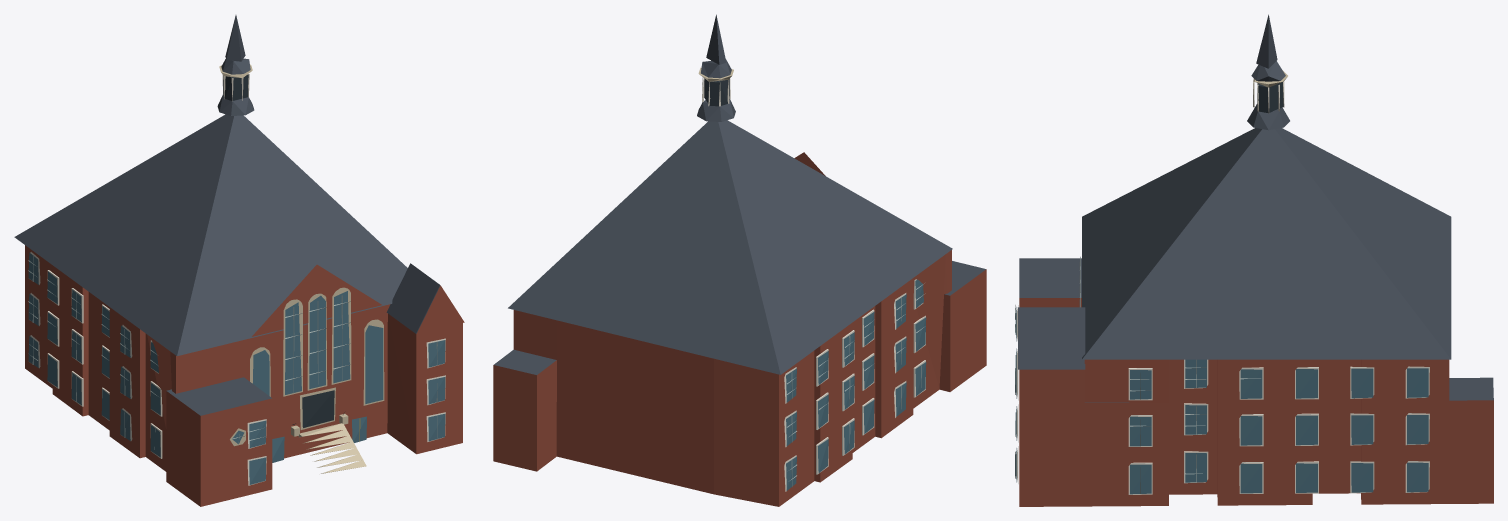
The model's file is orgelpark.lod1.glb.
The picture shows the model from 3 angles, left to right: view 1: azimuth 30°, elevation 25°; view 2: azimuth 150°, elevation 25°; view 3: azimuth 270°, elevation 25°; orthographic projection. The views are drawn at different scales.
Parts seen in each view (by area): view 1: orgelpark; view 2: orgelpark; view 3: orgelpark.
Boxes of the visible parts, bbox=[...] form: orgelpark: bbox=[14, 15, 464, 506]; orgelpark: bbox=[493, 14, 986, 506]; orgelpark: bbox=[1015, 14, 1493, 506].
Bounding box in the file's own units: 26.17 × 35.81 × 36.3.
